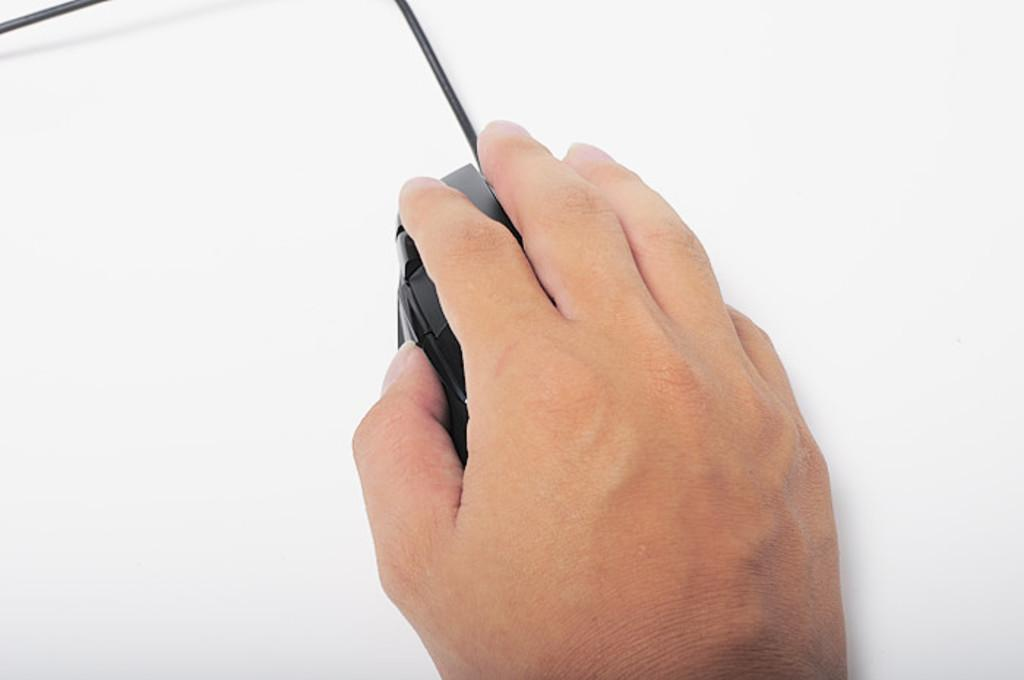Computer-mouse: (392, 159, 563, 462)
